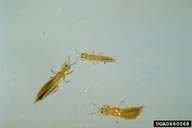Thrips: (87, 96, 151, 124), (34, 60, 73, 103), (76, 46, 121, 72)
